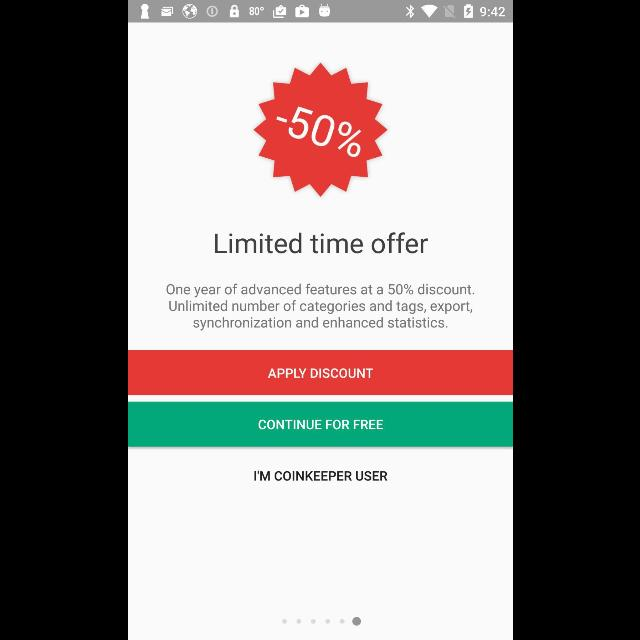image: (252, 62, 388, 198)
pageindicator: (281, 616, 361, 626)
text: (164, 283, 473, 331), (213, 232, 427, 254), (254, 471, 386, 482)
textbutton: (128, 351, 512, 395), (128, 402, 512, 446)
uppertaskbar: (128, 1, 512, 23)
